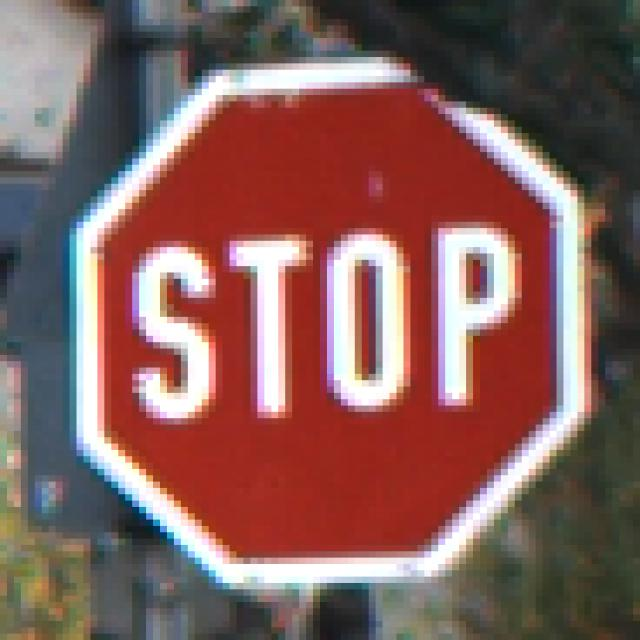STOP: (64, 58, 585, 590)
